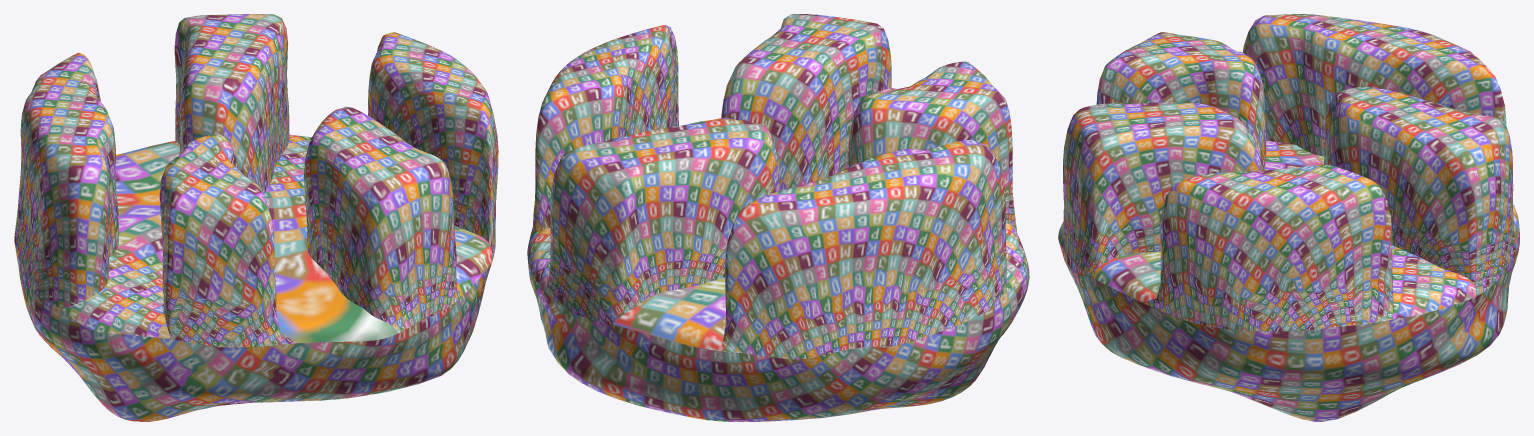
The model's file is island6.obj.
3 views of the same model, side by side, from view 1: azimuth 30°, elevation 25°; view 2: azimuth 150°, elevation 25°; view 3: azimuth 270°, elevation 25° (orthographic). The views are drawn at different scales.
Visible parts, largest first — view 1: F3:GeoDome1; view 2: F3:GeoDome1; view 3: F3:GeoDome1.
Boxes of the visible parts, bbox=[...] form: F3:GeoDome1: bbox=[14, 14, 498, 421]; F3:GeoDome1: bbox=[527, 14, 1029, 421]; F3:GeoDome1: bbox=[1058, 14, 1519, 421].
Bounding box in the file's own units: 2.02 × 1.36 × 1.99.
Materials: 1 (1 with a texture image).
